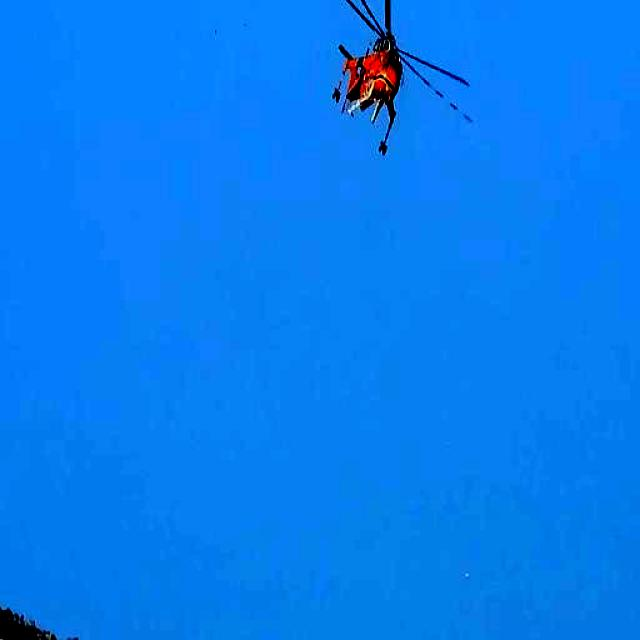drone: (315, 0, 476, 156)
